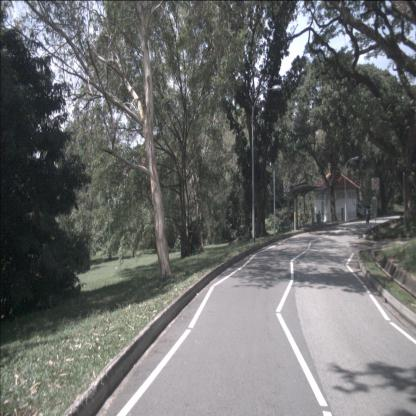vehicle-motorcycle: (364, 199, 372, 224)
vehicle-truck: (343, 202, 365, 219)
